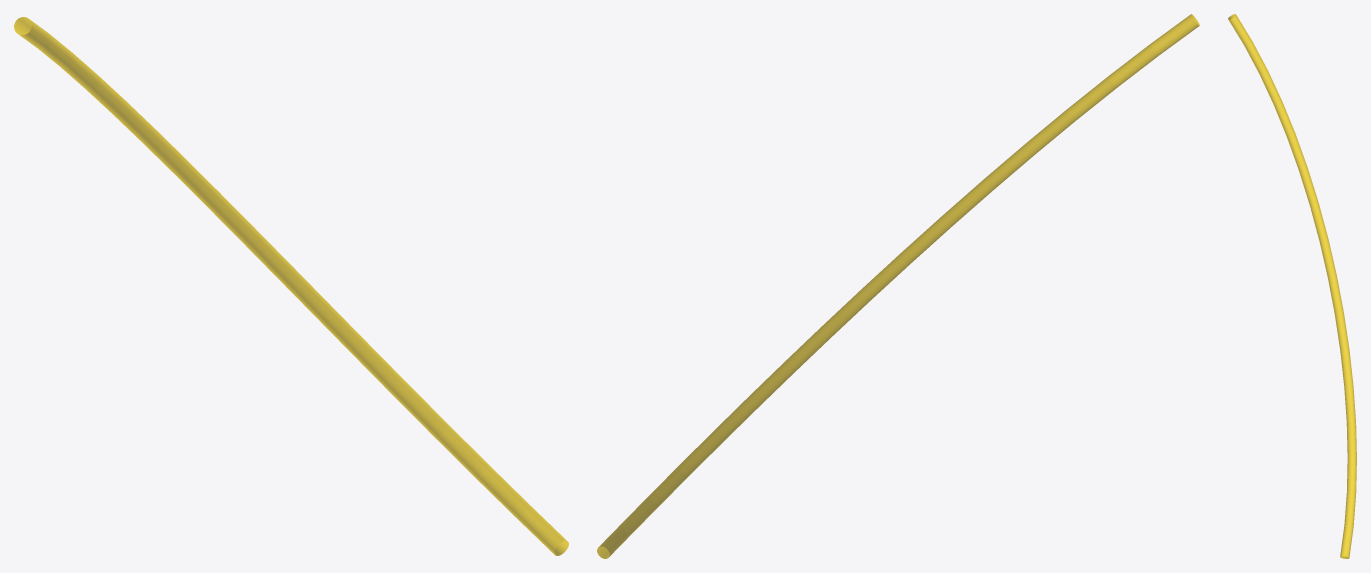
The model's file is Event_17758602_track_149.fbx.
3 renders of one model, left to right at view 1: azimuth 30°, elevation 25°; view 2: azimuth 150°, elevation 25°; view 3: azimuth 270°, elevation 25°, orthographic. The views are drawn at different scales.
Visible parts, largest first — view 1: Model; view 2: Model; view 3: Model.
Part boxes in pixels (x1,y1,x2,y2): Model: (14,17,568,555); Model: (597,14,1199,558); Model: (1228,14,1356,558).
Size of the model in its own units: 1.63 by 1.82 by 0.5479.
